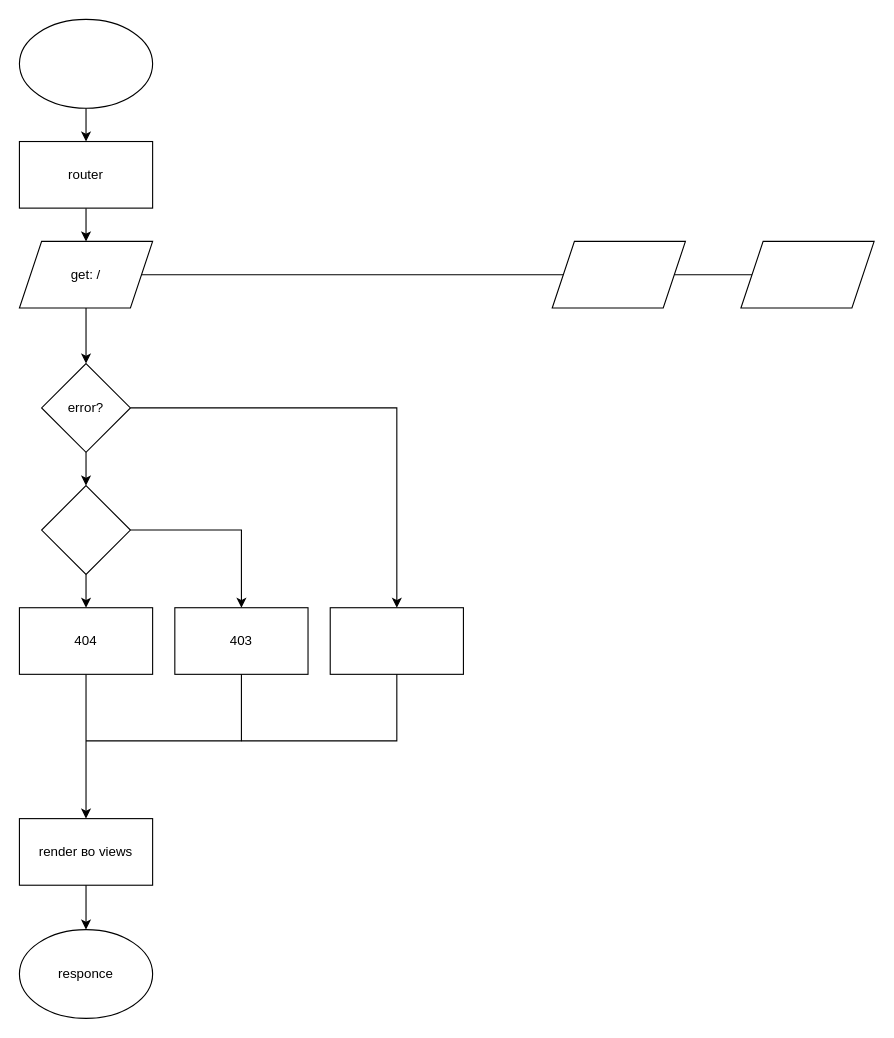
Some shapes in this 894 by 1038 pixel diagram are drawn without their labels. Here are the shapes that lost their labels. From the top down, the centre of each, then its label:
the point at 85,63: request
the point at 618,274: get: /login
the point at 85,529: error
the point at 396,640: model: запрос в базу данных;
